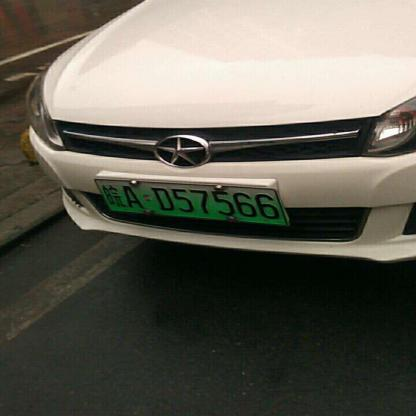lp: (96, 179, 286, 223)
